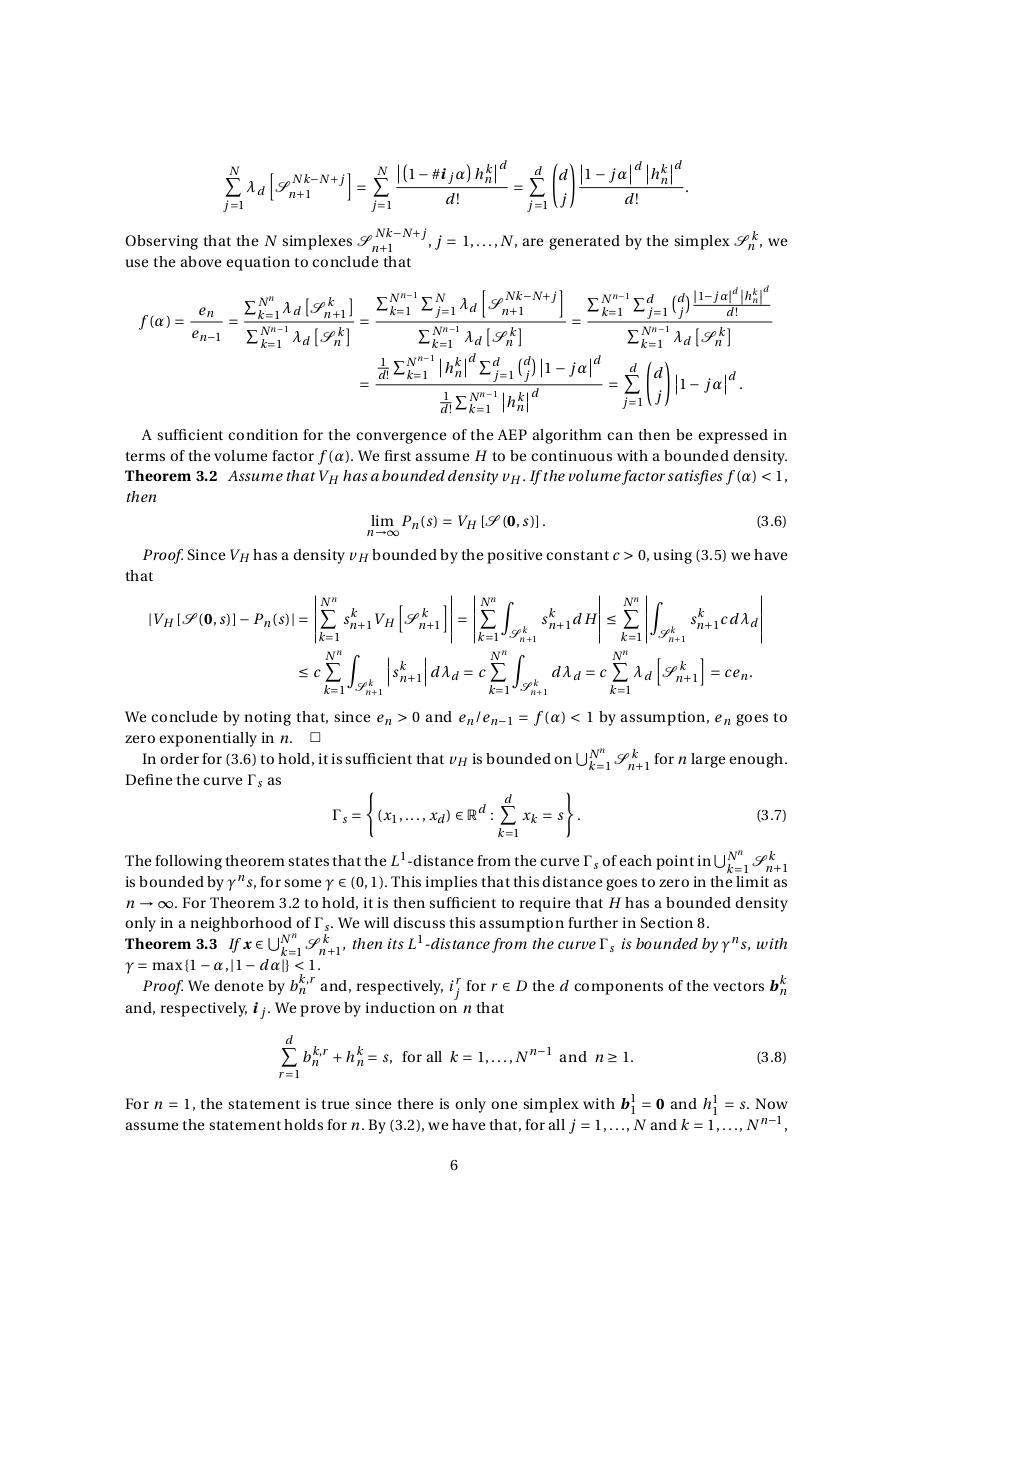formula: (138, 284, 772, 349), (149, 594, 761, 644), (223, 159, 687, 212), (360, 352, 740, 414), (279, 1035, 785, 1078), (332, 791, 785, 838), (299, 649, 751, 695), (367, 513, 785, 537)
